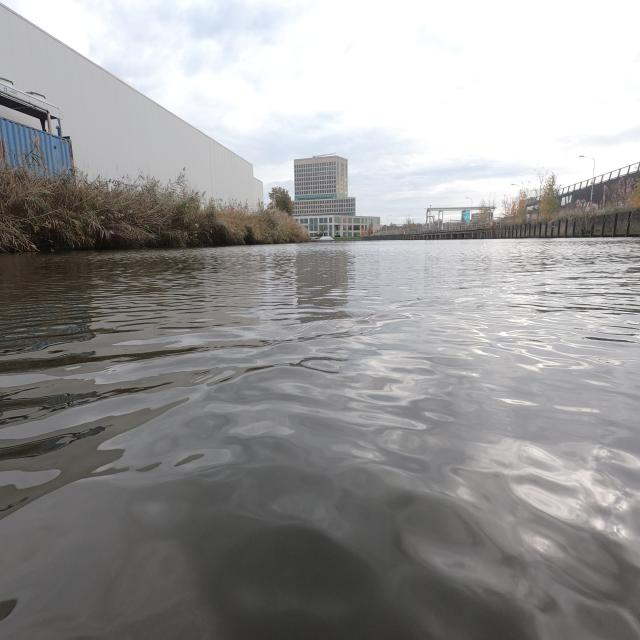reed: (0, 166, 306, 244)
sky: (8, 2, 638, 216)
wall: (488, 210, 638, 238)
water: (0, 237, 640, 640)
